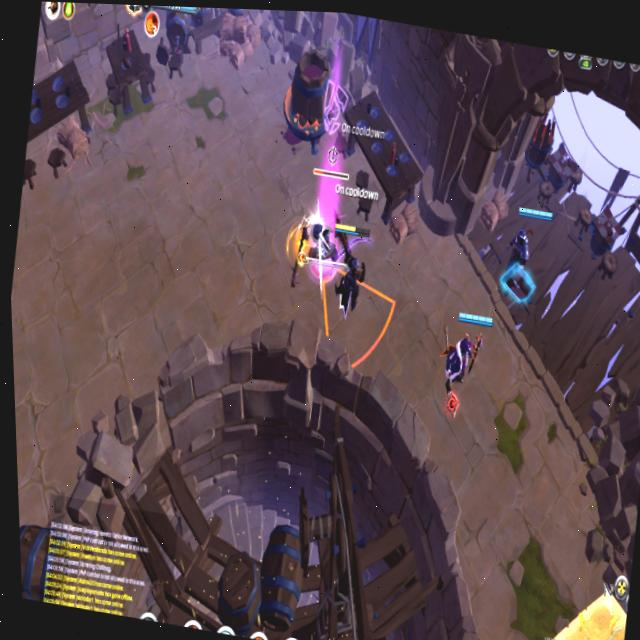ore: (290, 141, 360, 292)
red: (493, 195, 562, 304), (319, 219, 375, 320), (444, 304, 500, 389)
silver: (278, 233, 406, 419)
